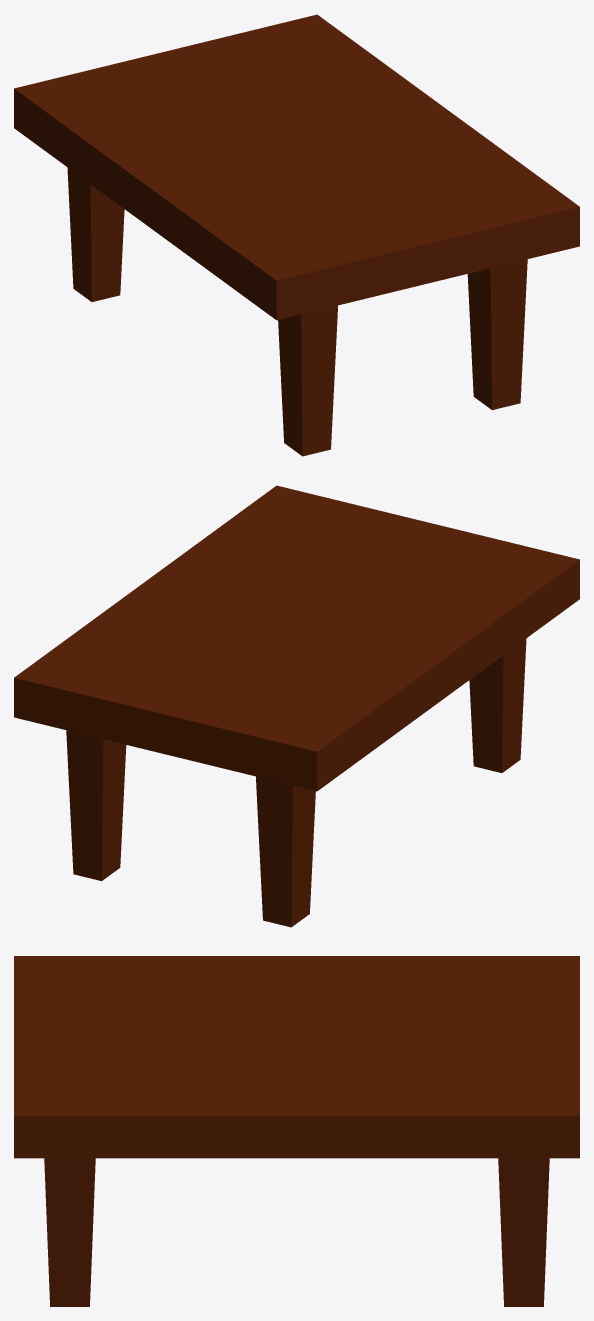
File: Table.glb
3 renders of one model, top to bottom at view 1: azimuth 30°, elevation 25°; view 2: azimuth 150°, elevation 25°; view 3: azimuth 270°, elevation 25°, orthographic. The views are drawn at different scales.
Parts seen in each view (by area): view 1: Cube; view 2: Cube; view 3: Cube.
Part boxes in pixels (box(x1,y1,x2,y2)): Cube: box(14, 14, 579, 456); Cube: box(14, 485, 579, 927); Cube: box(14, 956, 579, 1306).
Size of the model in its own units: 2 by 1.25 by 3.
